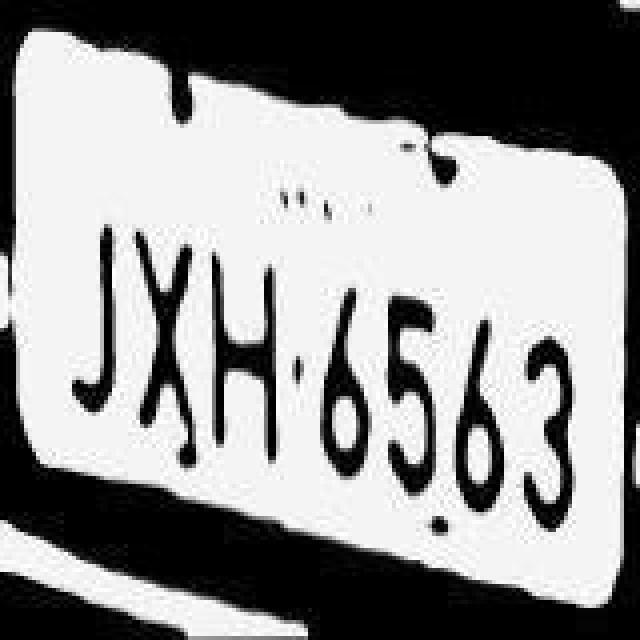3: (508, 282, 580, 542)
5: (376, 262, 440, 518)
6: (314, 244, 374, 504), (450, 276, 510, 536)
H: (210, 228, 286, 480)
J: (64, 206, 128, 466)
X: (124, 210, 196, 438)
